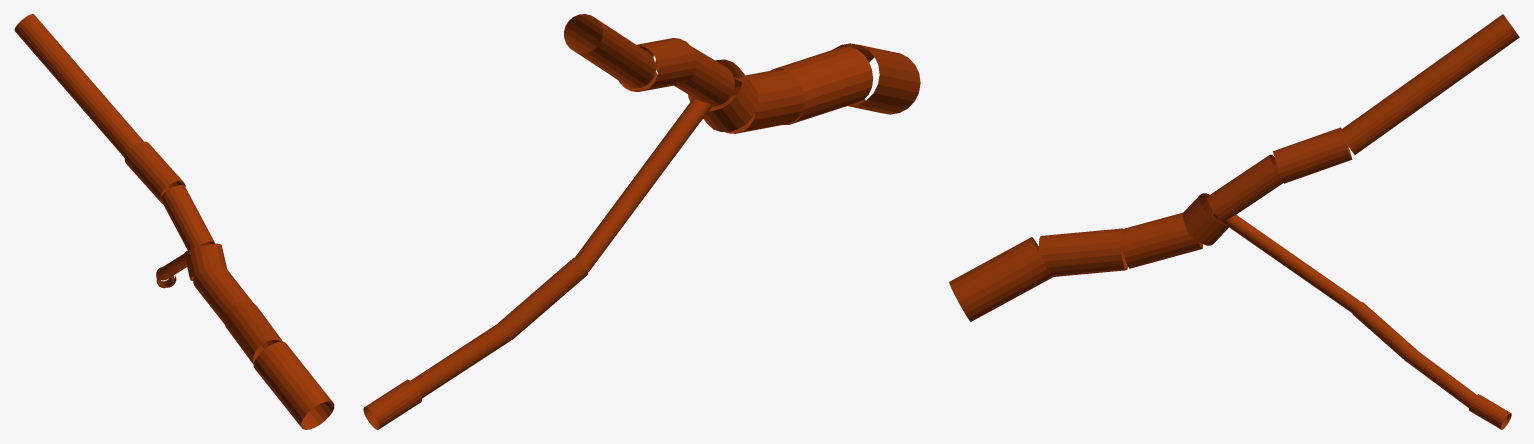
File: tree_0037.obj
3 renders of one model, left to right at view 1: azimuth 30°, elevation 25°; view 2: azimuth 150°, elevation 25°; view 3: azimuth 270°, elevation 25°, orthographic. The views are drawn at different scales.
Visible parts, largest first — view 1: groupWood; view 2: groupWood; view 3: groupWood.
Part boxes in pixels (<box>): groupWood: <box>14,14,334,429</box>; groupWood: <box>363,14,920,429</box>; groupWood: <box>949,14,1519,429</box>.
Bounding box in the file's own units: 0.5551 × 1.02 × 1.56.
